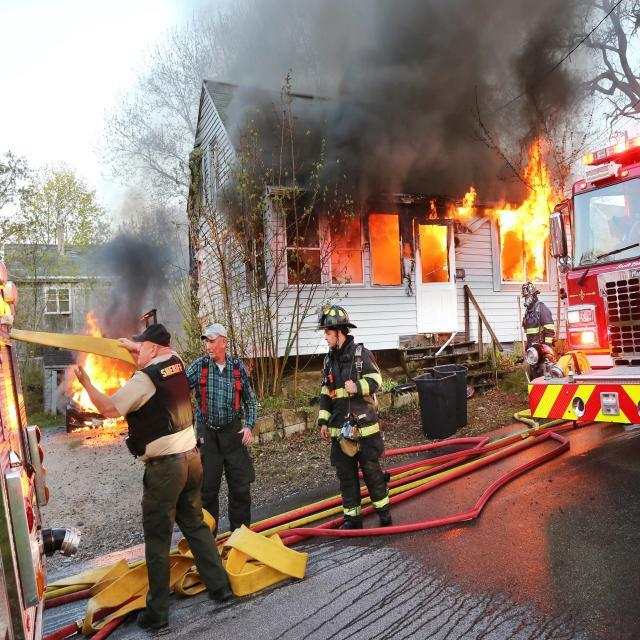Fire: (492, 134, 557, 280), (73, 354, 133, 427), (422, 184, 477, 258), (86, 310, 102, 338)
Smoke: (217, 0, 587, 227), (92, 231, 178, 339)
